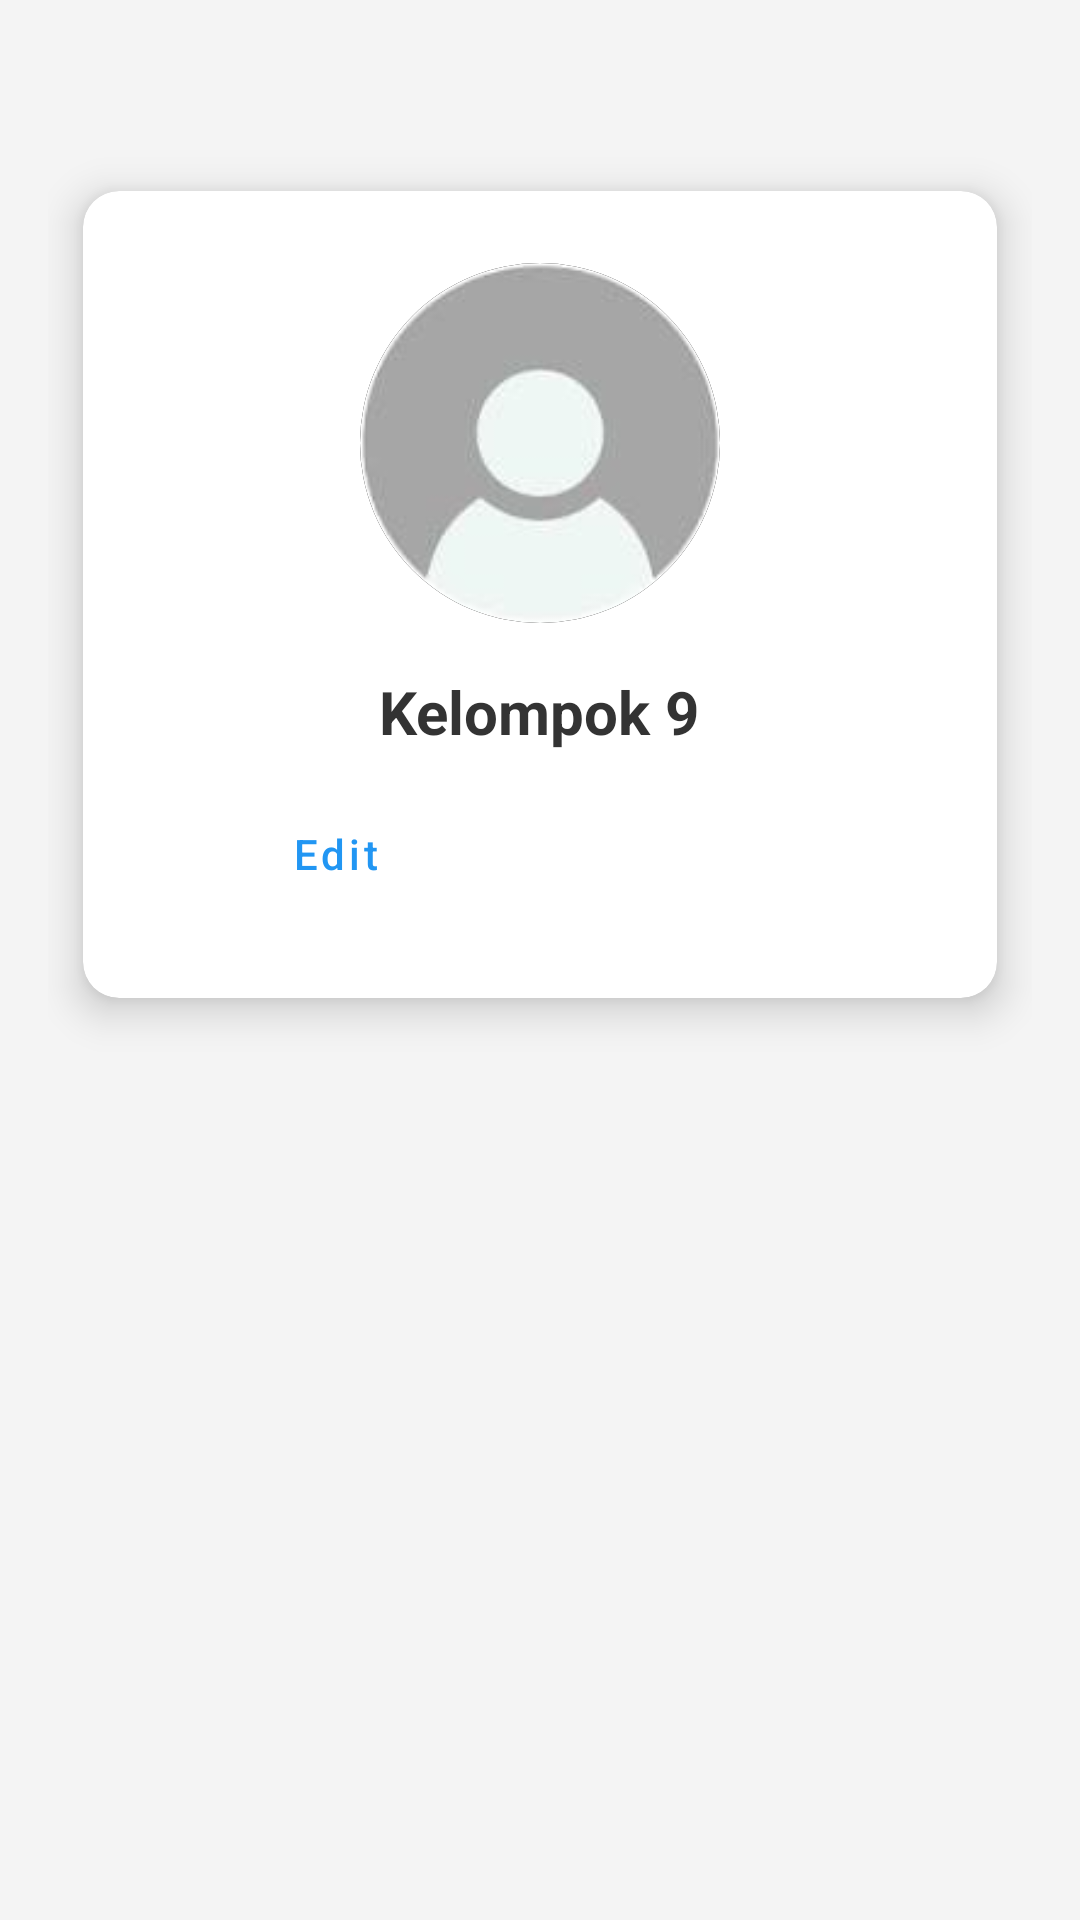

Named icons in this screenshot (1080 x 1920) and their centers, (x,y):
foto profil: (540,443)
